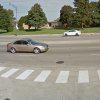Crosswalk: (7, 63, 100, 100)
